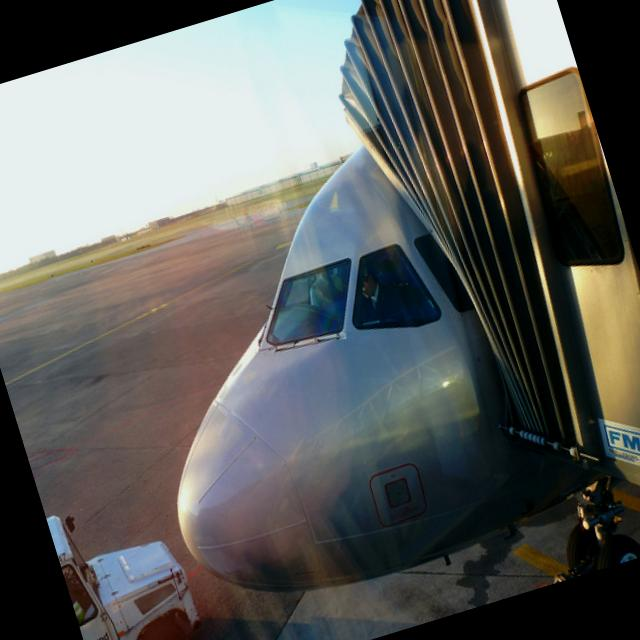Vehicle: (46, 485, 214, 640)
